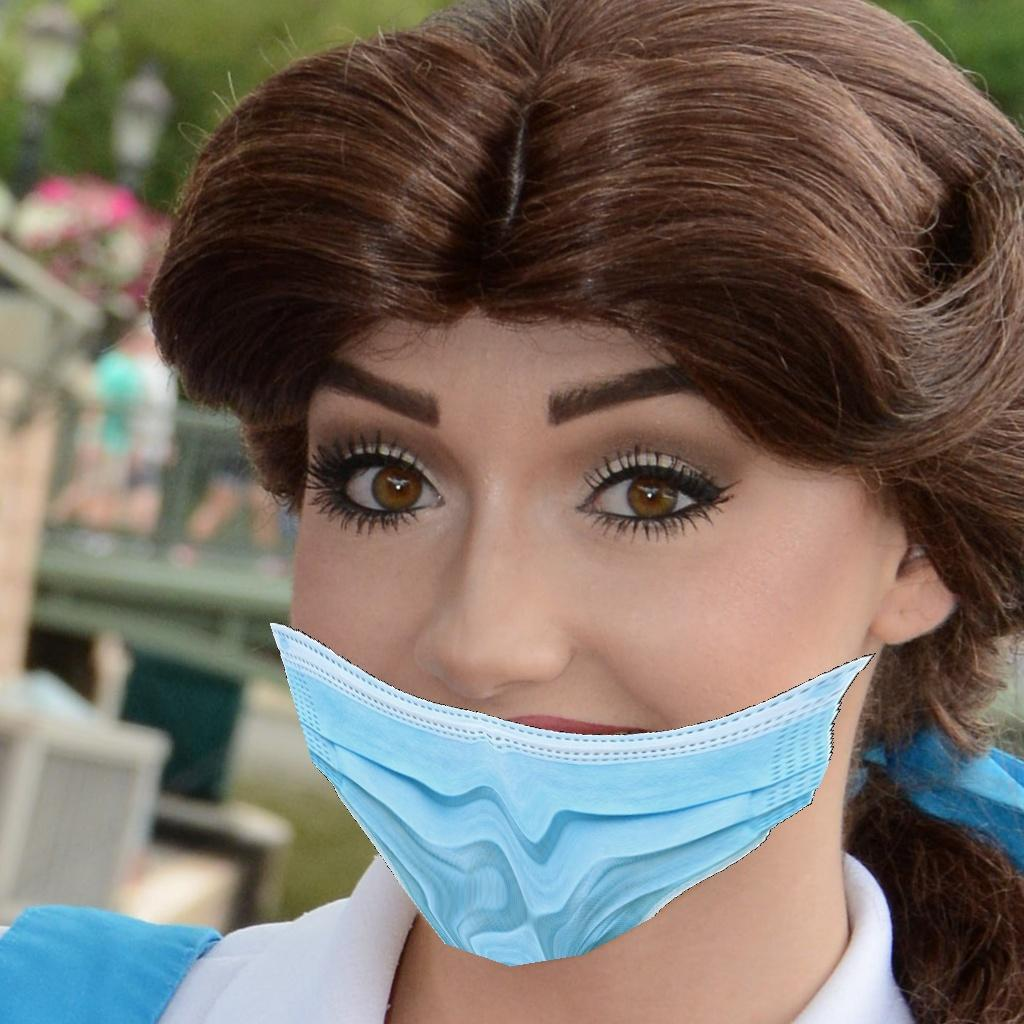Máscara Incorreta: (295, 261, 858, 936)
